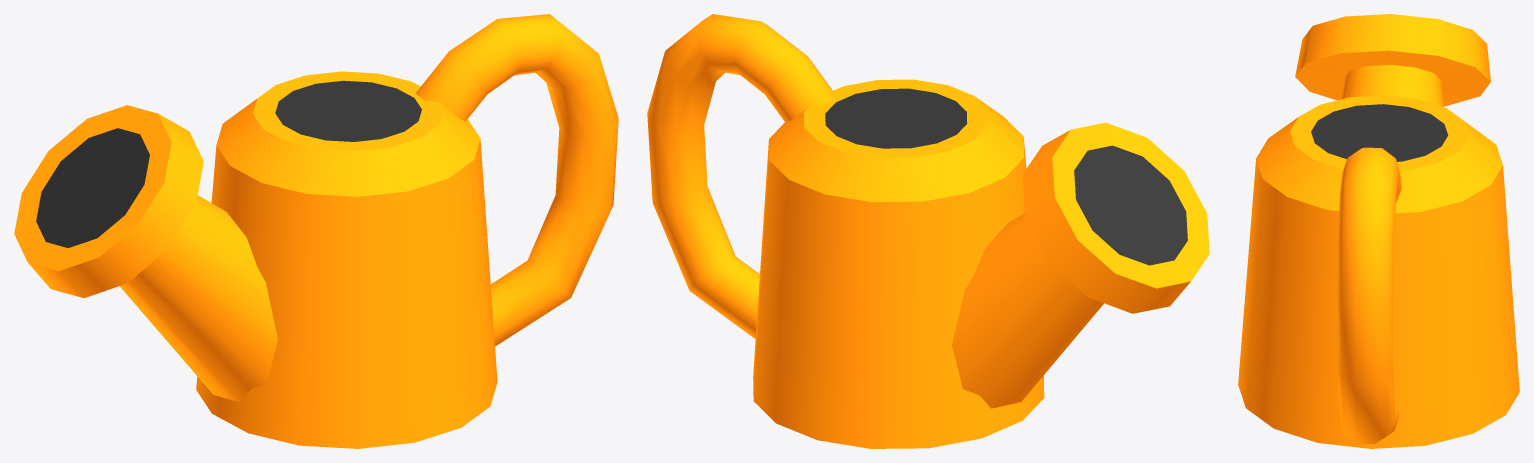
Rendered from Bl_Watercan.fbx.
3 views of the same model, side by side, from view 1: azimuth 30°, elevation 25°; view 2: azimuth 150°, elevation 25°; view 3: azimuth 270°, elevation 25° (orthographic). The views are drawn at different scales.
Parts seen in each view (by area): view 1: SuperCan; view 2: SuperCan; view 3: SuperCan.
Part boxes in pixels (x1,y1,x2,y2): SuperCan: (14, 14, 618, 448); SuperCan: (647, 14, 1209, 448); SuperCan: (1238, 14, 1519, 448).
Size of the model in its own units: 1.26 by 0.6993 by 0.5769.
